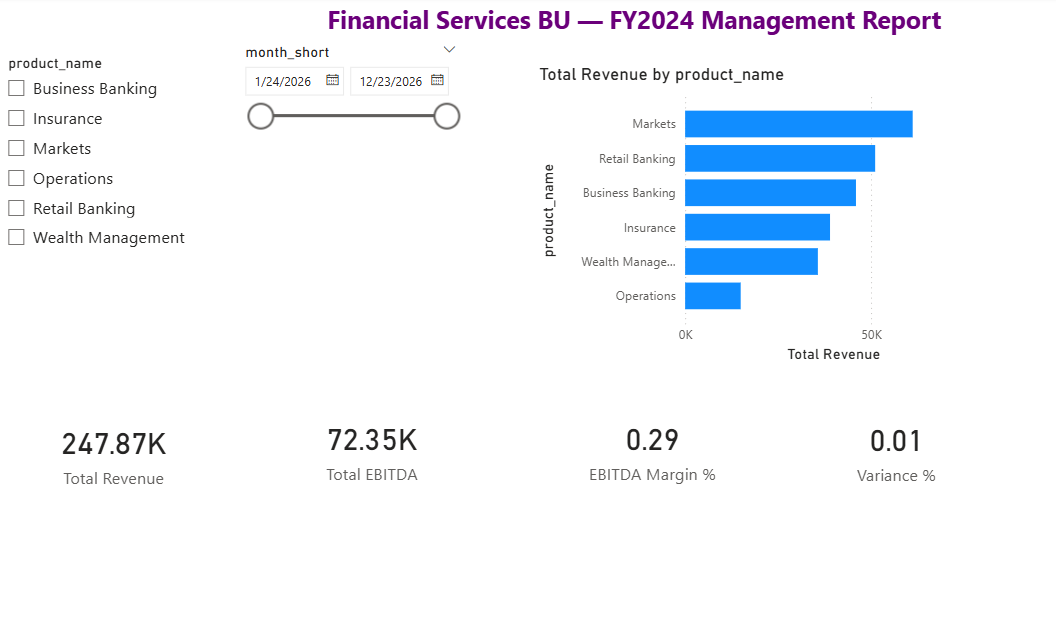

The dashboard page shown, as its layout file describes it:
{"tool":"powerbi","page":{"name":"Management Summary","canvas":[1280,720],"ordinal":0},"visuals":[{"type":"textbox","box":[318.1,0,674,50.6],"z":0},{"type":"slicer","fields":{"Values":["dim_product.product_name"]},"box":[0,50.6,230.5,251.9],"z":1},{"type":"slicer","fields":{"Values":["dim_month.month_short"]},"box":[230.5,39.9,230.5,251.9],"z":2},{"type":"card","fields":{"Values":["Measures (2).Total Revenue"]},"box":[0,317,231,252],"z":3},{"type":"card","fields":{"Values":["Measures (2).Total EBITDA"]},"box":[241.2,317.1,250.9,244.1],"z":4},{"type":"card","fields":{"Values":["Measures (2).EBITDA Margin %"]},"box":[524.3,317.1,230.5,244.1],"z":5},{"type":"card","fields":{"Values":["Measures (2).Variance %"]},"box":[761.6,317.1,230.5,246.1],"z":6},{"type":"clusteredBarChart","fields":{"Category":["dim_product.product_name"],"Y":["Measures (2).Total Revenue"]},"box":[524.3,65.2,451.3,294.7],"z":7}]}

Visuals, with their boxes on the page's 1280x720 design canvas (x1, y1, x2, y2). These are canvas units, not pixel positions in the 1056x629 screenshot, which may show the page scaled, cropped or inside an application window:
textbox: bbox(318, 0, 992, 51)
slicer - dim_product.product_name: bbox(0, 51, 230, 302)
slicer - dim_month.month_short: bbox(230, 40, 461, 292)
card - Measures (2).Total Revenue: bbox(0, 317, 231, 569)
card - Measures (2).Total EBITDA: bbox(241, 317, 492, 561)
card - Measures (2).EBITDA Margin %: bbox(524, 317, 755, 561)
card - Measures (2).Variance %: bbox(762, 317, 992, 563)
clusteredBarChart - dim_product.product_name x Measures (2).Total Revenue: bbox(524, 65, 976, 360)
